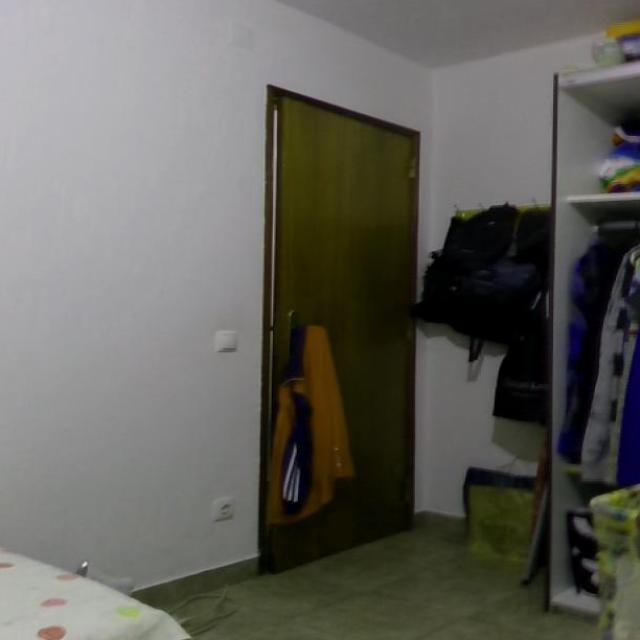door: (258, 83, 419, 574)
